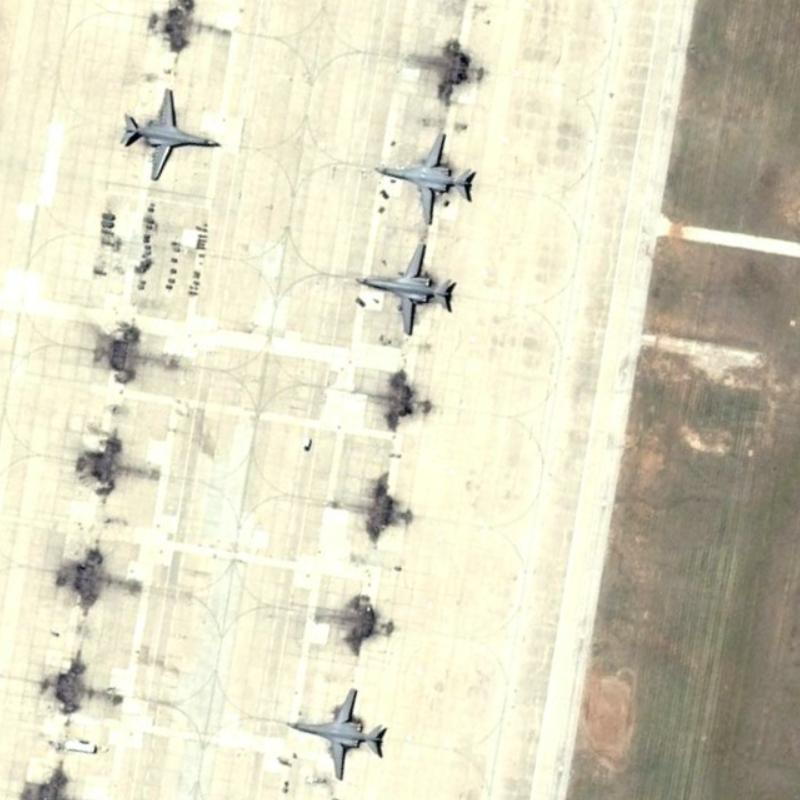A10: (279, 683, 405, 783), (109, 82, 229, 184), (347, 243, 470, 338), (370, 127, 484, 225)
